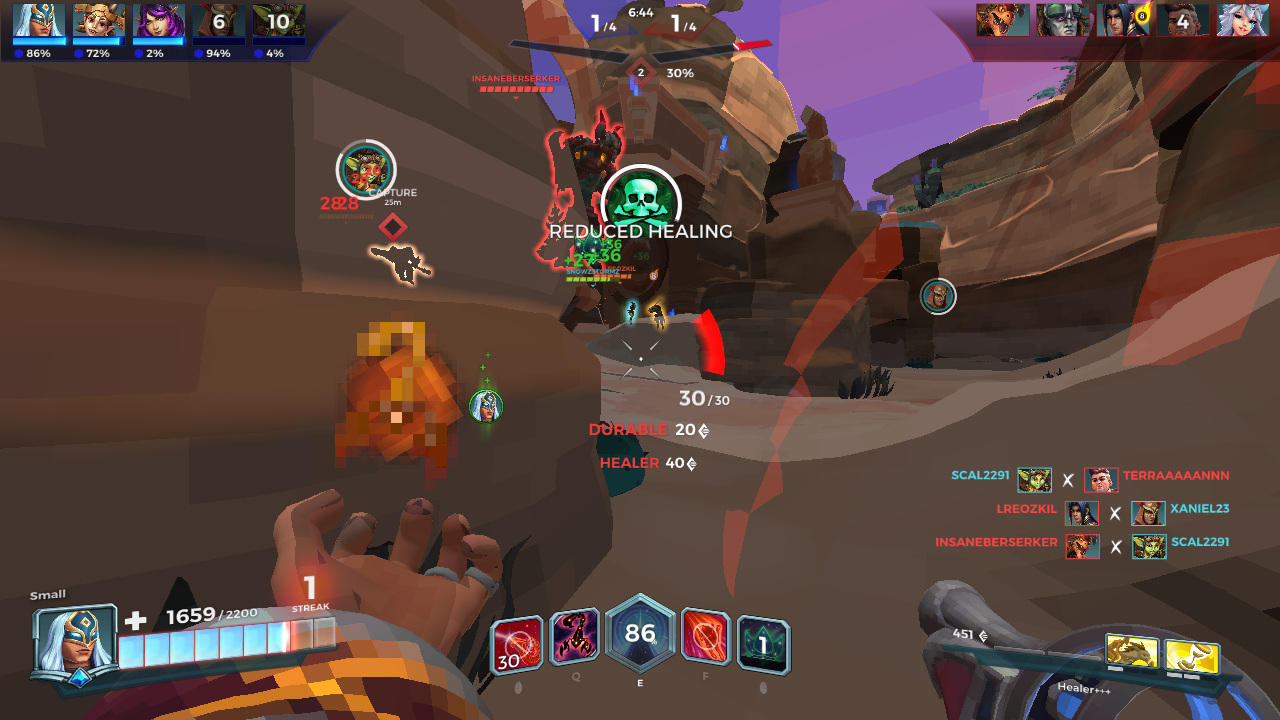model: (534, 106, 630, 279), (362, 243, 435, 291), (645, 294, 669, 328)
